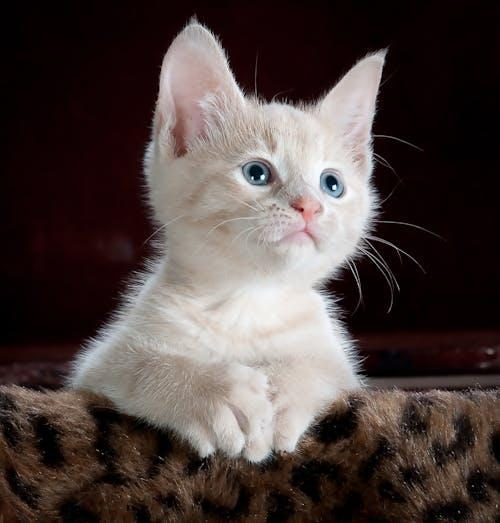kedo: (70, 24, 389, 462)
